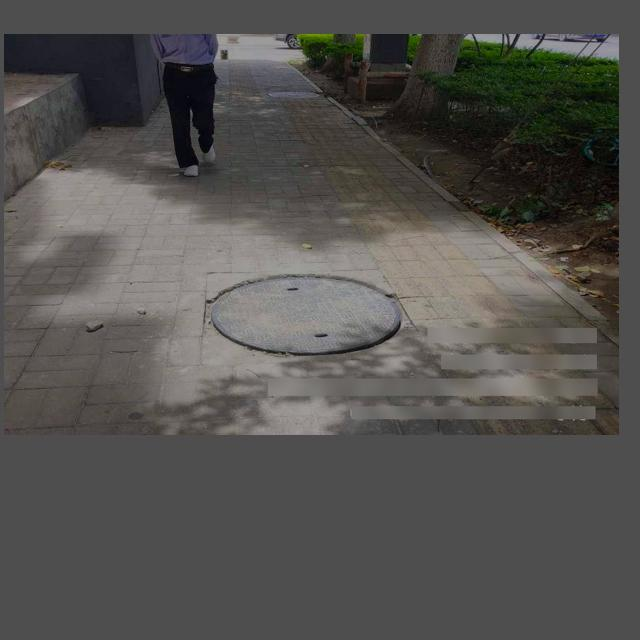circle: (206, 273, 407, 357)
